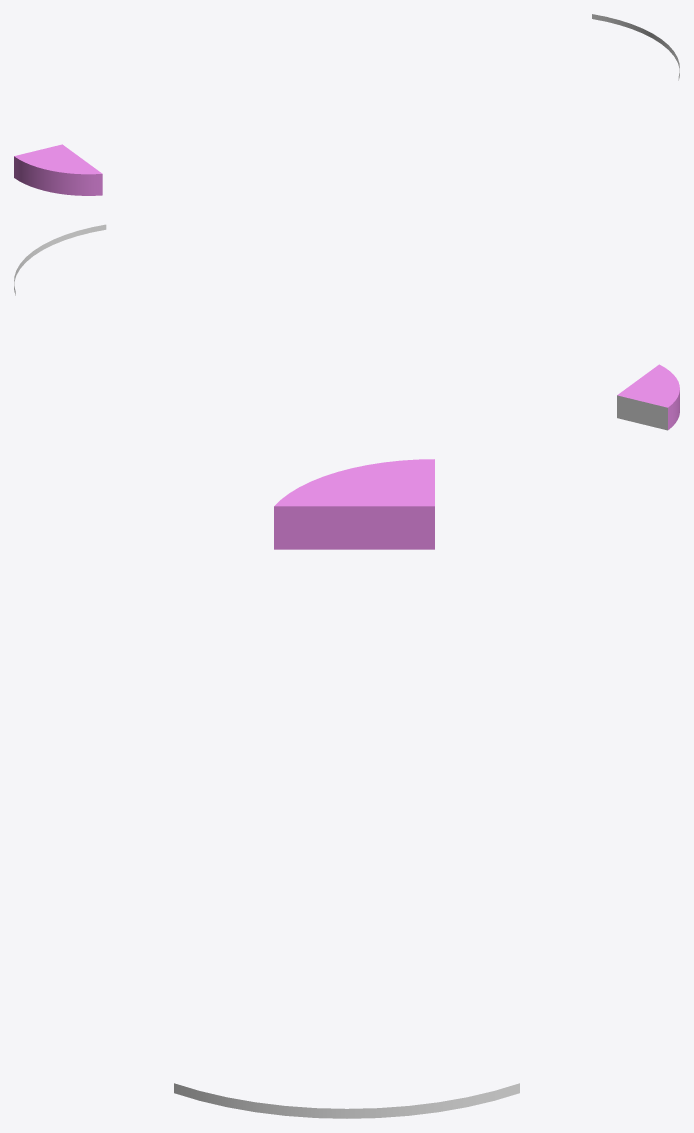
Rendered from APPLE.obj.
3 views of the same model, one above another, from view 1: azimuth 30°, elevation 25°; view 2: azimuth 150°, elevation 25°; view 3: azimuth 270°, elevation 25° (orthographic). The views are drawn at different scales.
Visible parts, largest first — view 1: Mesh2 Model, Mesh1 Model; view 2: Mesh2 Model, Mesh1 Model; view 3: Mesh2 Model, Mesh1 Model.
Boxes of the visible parts, x1,y1,x2,y2 form: Mesh2 Model: (14, 144, 102, 195); Mesh1 Model: (592, 14, 679, 80); Mesh2 Model: (617, 364, 679, 430); Mesh1 Model: (14, 224, 106, 295); Mesh2 Model: (274, 459, 434, 549); Mesh1 Model: (174, 1083, 519, 1118).
Size of the model in its own units: 238 by 8.94 by 56.99.
